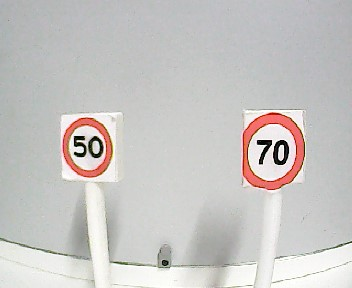50-bord: (62, 117, 113, 178)
70-bord: (244, 113, 305, 188)
